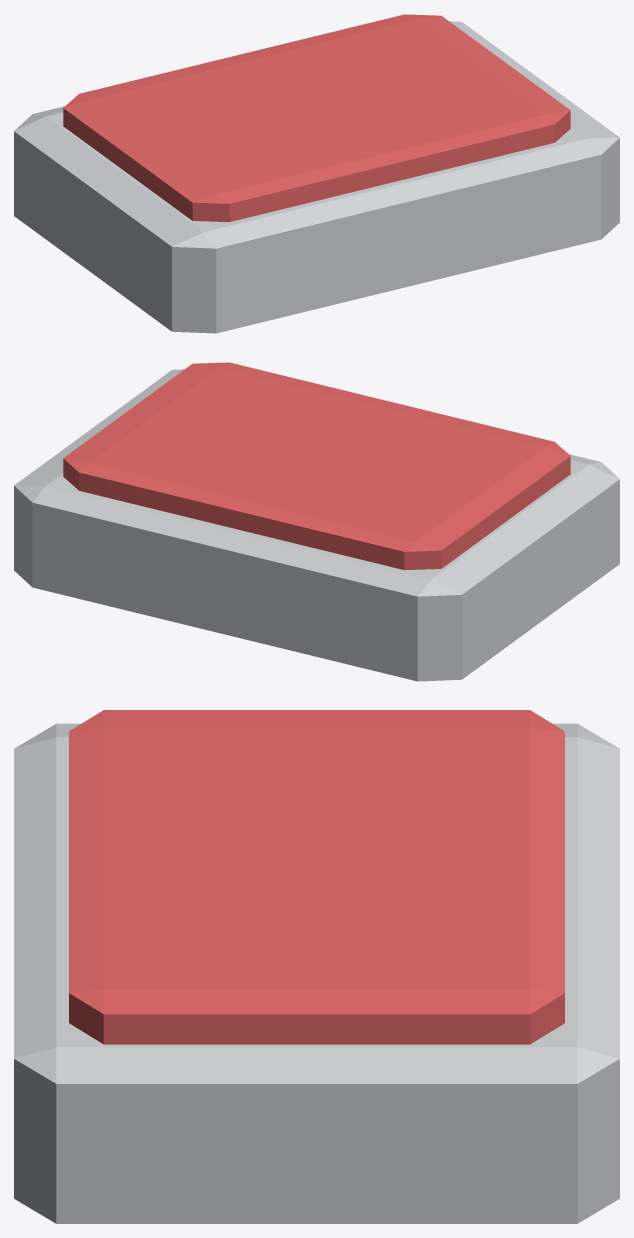
Rendered from b16_rectangular_foil_takeaway_pan.glb.
The picture shows the model from 3 angles, top to bottom: view 1: azimuth 30°, elevation 25°; view 2: azimuth 150°, elevation 25°; view 3: azimuth 270°, elevation 25°; orthographic projection. The views are drawn at different scales.
Visible parts, largest first — view 1: b16_rectangular_foil_takeaway_pan; view 2: b16_rectangular_foil_takeaway_pan; view 3: b16_rectangular_foil_takeaway_pan.
Boxes of the visible parts, left/top/right/bottom form: b16_rectangular_foil_takeaway_pan: left=14, top=14, right=619, bottom=333; b16_rectangular_foil_takeaway_pan: left=14, top=362, right=619, bottom=681; b16_rectangular_foil_takeaway_pan: left=14, top=710, right=619, bottom=1223.
Size of the model in its own units: 0.197 by 0.05 by 0.14.
